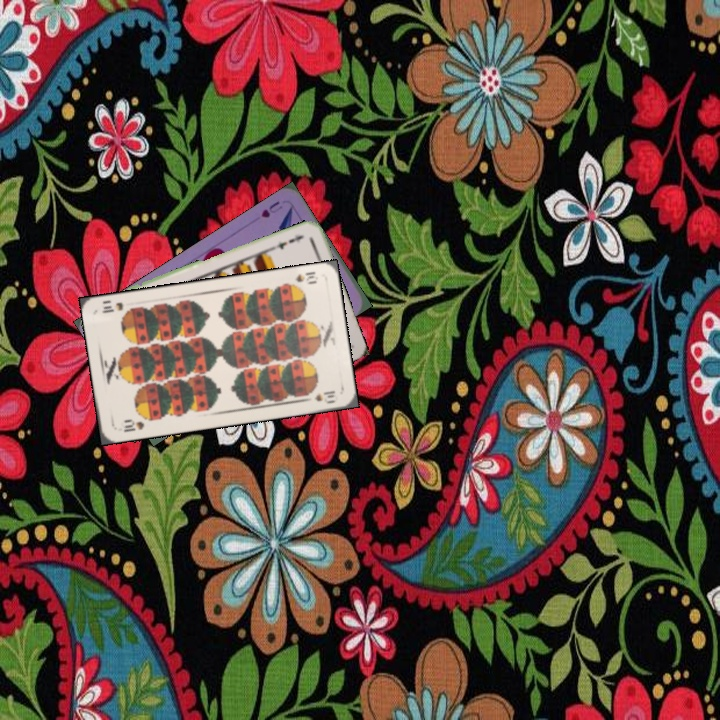E7: (269, 231, 306, 252)
HU: (257, 197, 285, 221)
S10: (283, 268, 320, 290), (119, 416, 147, 435)
